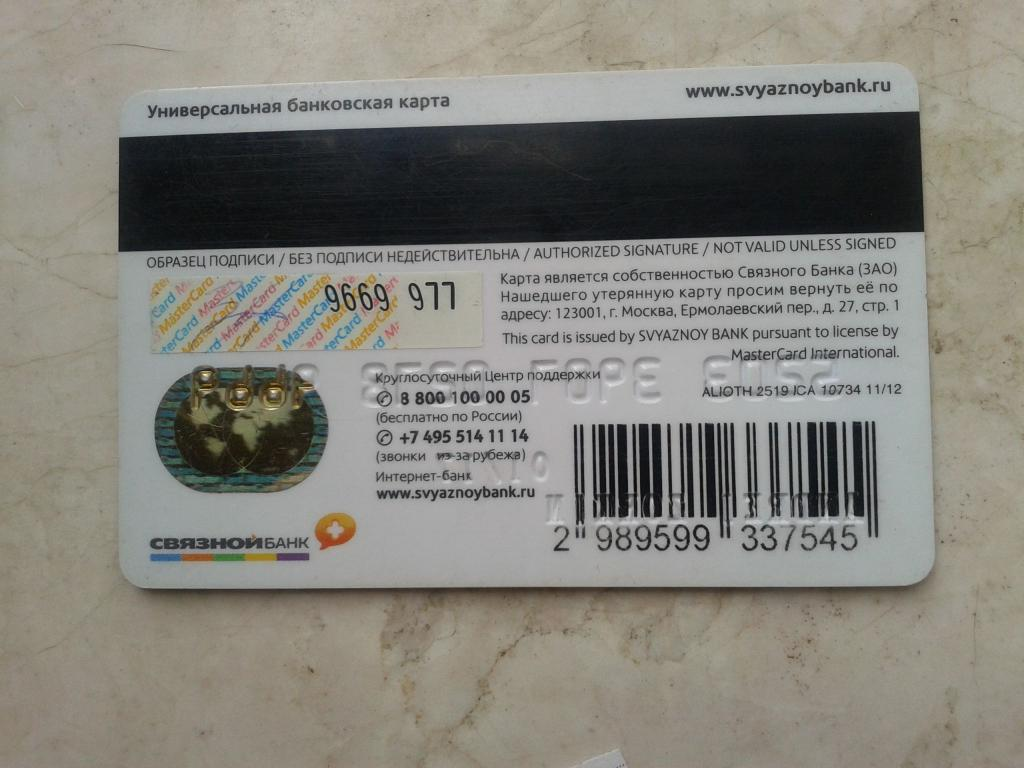card: (113, 59, 938, 589)
